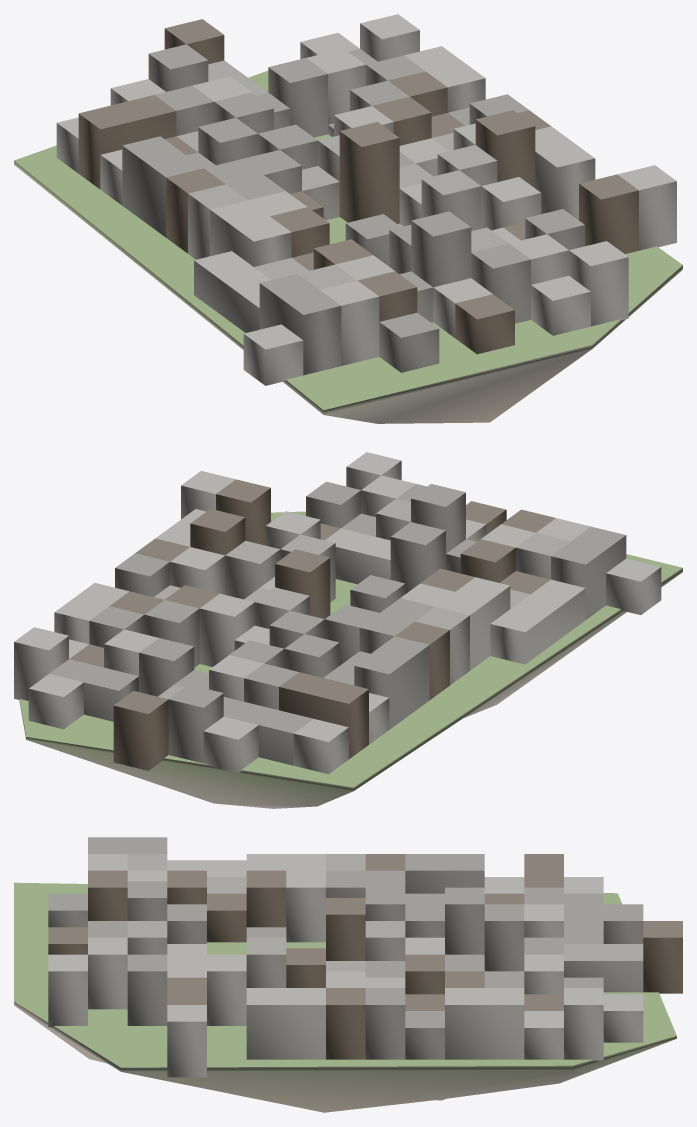
The model's file is SKY-034.lod2.glb.
3 renders of one model, top to bottom at view 1: azimuth 30°, elevation 25°; view 2: azimuth 150°, elevation 25°; view 3: azimuth 270°, elevation 25°, orthographic. The views are drawn at different scales.
Visible parts, largest first — view 1: warren_hull, deck, rock; view 2: warren_hull, deck, rock; view 3: warren_hull, deck, rock.
Boxes of the visible parts, left/top/right/bottom form: warren_hull: left=56, top=14, right=676, bottom=385; deck: left=14, top=70, right=682, bottom=410; rock: left=14, top=161, right=682, bottom=423; warren_hull: left=14, top=452, right=661, bottom=774; deck: left=19, top=511, right=682, bottom=787; rock: left=19, top=568, right=682, bottom=808; warren_hull: left=48, top=837, right=682, bottom=1077; deck: left=14, top=882, right=676, bottom=1067; rock: left=14, top=1001, right=676, bottom=1112.
Size of the model in its own units: 180 by 85.04 by 253.
